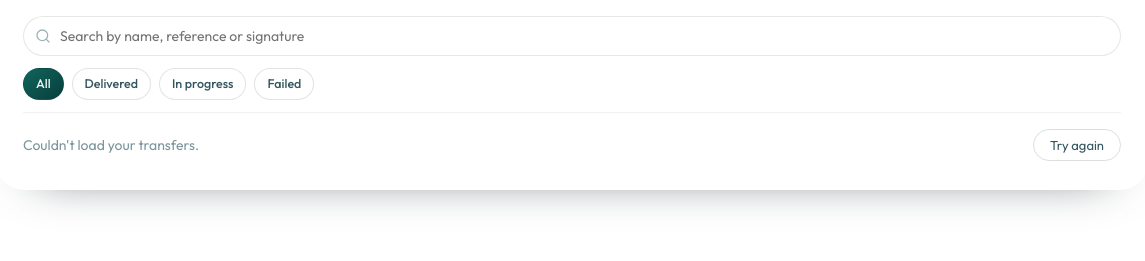
Test: TransferHistory › error state with a retry that refetches
Click the button "Try again". click: point(1077, 145)
box: [1033, 129, 1121, 161]
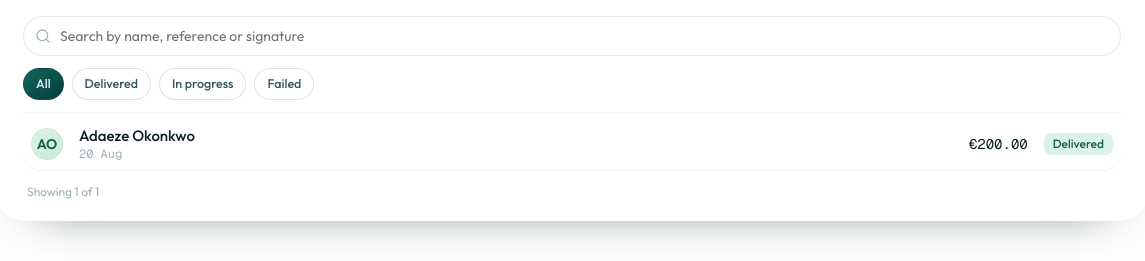
expect the text "Adaeze Okonkwo" is shown: met, box [79, 126, 195, 145]
